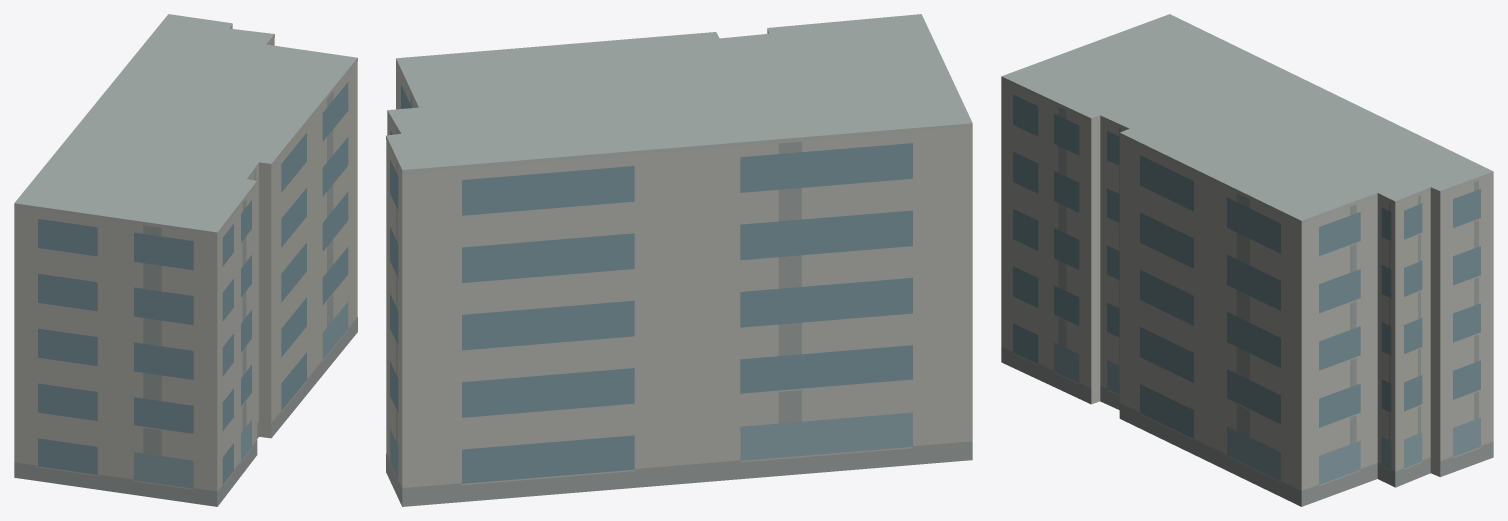
Rendered from survey-upis-32538982.glb.
3 renders of one model, left to right at view 1: azimuth 30°, elevation 25°; view 2: azimuth 150°, elevation 25°; view 3: azimuth 270°, elevation 25°, orthographic. The views are drawn at different scales.
Parts seen in each view (by area): view 1: survey-upis-32538982.tmp; view 2: survey-upis-32538982.tmp; view 3: survey-upis-32538982.tmp.
Part boxes in pixels (left/top/right/bottom): survey-upis-32538982.tmp: left=14, top=14, right=357, bottom=506; survey-upis-32538982.tmp: left=386, top=14, right=972, bottom=506; survey-upis-32538982.tmp: left=1001, top=14, right=1493, bottom=506.
Size of the model in its own units: 29.01 by 18.7 by 29.17.
